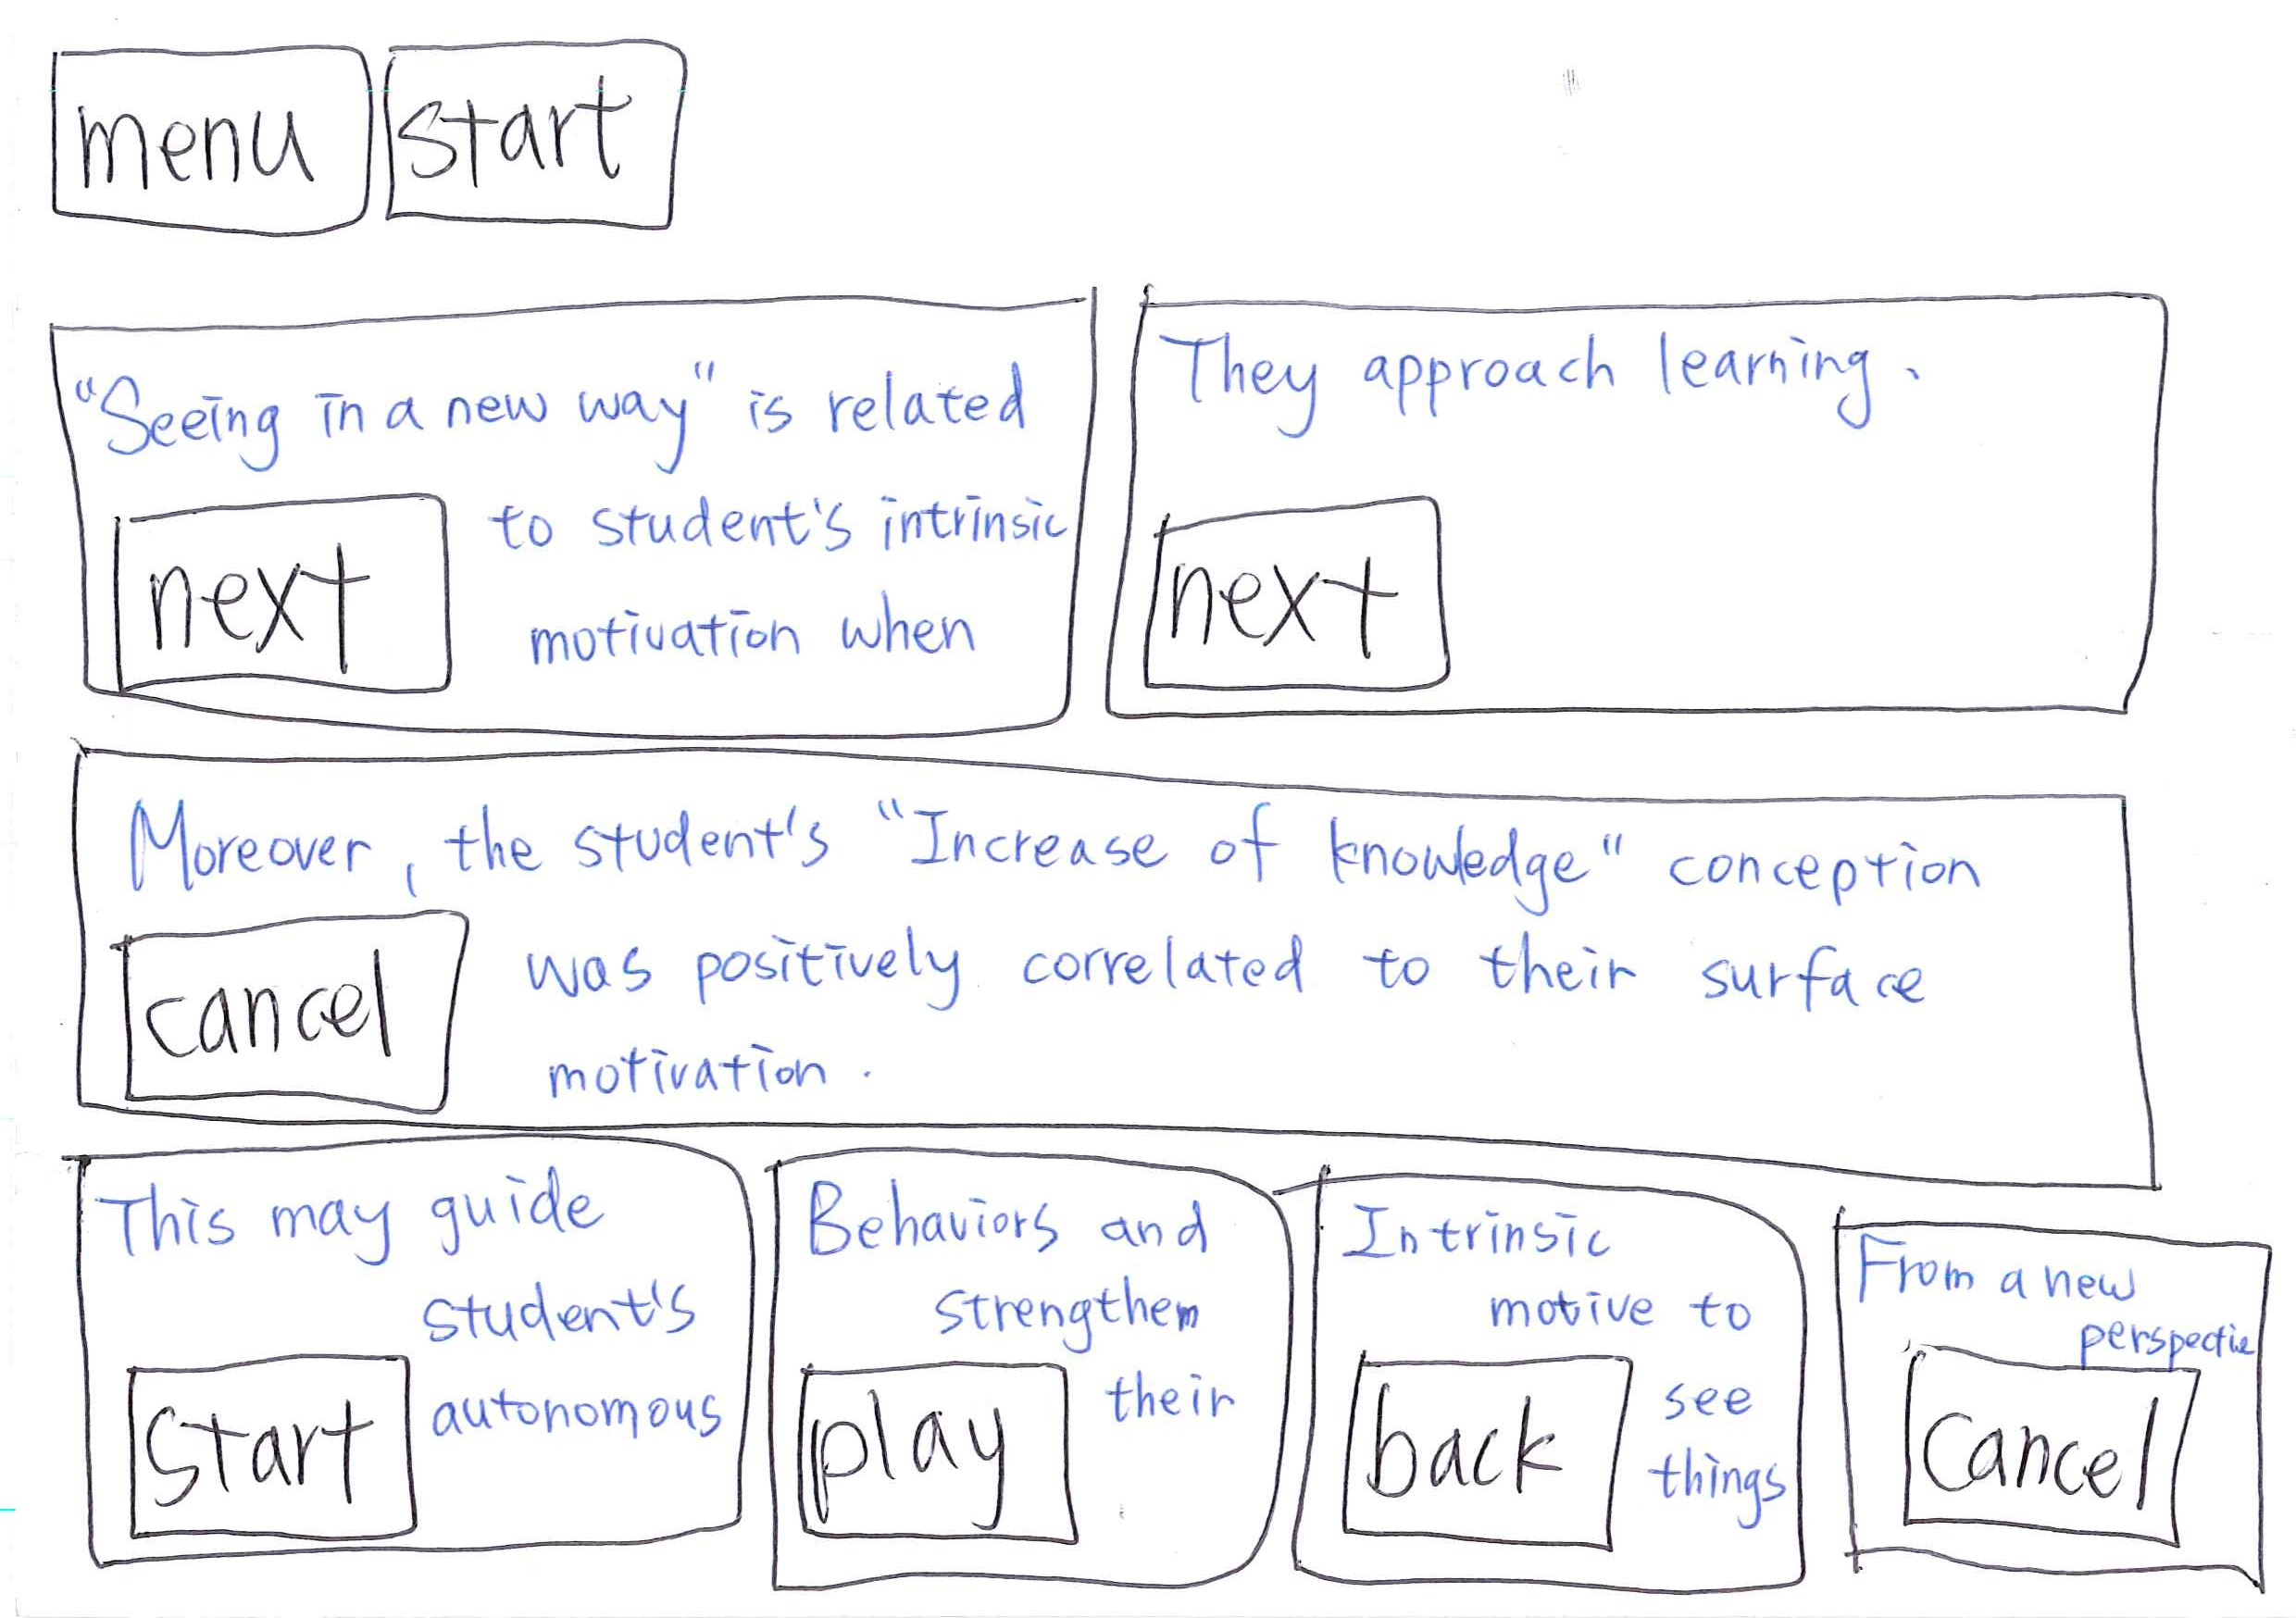back: (1314, 1347, 1641, 1557)
cancel: (98, 902, 492, 1128), (1884, 1324, 2210, 1550)
double: (1086, 256, 2208, 742), (21, 285, 1126, 741)
menu: (23, 28, 382, 266)
next: (102, 473, 476, 725), (1126, 483, 1471, 699)
play: (779, 1348, 1095, 1562)
quadruple: (35, 1124, 755, 1604), (751, 1117, 1305, 1609), (1299, 1136, 1821, 1618), (1818, 1170, 2296, 1616)
row: (12, 271, 2296, 739), (12, 723, 2296, 1191), (12, 1138, 2296, 1606), (11, 4, 2296, 271)
single: (19, 723, 2247, 1213)
small-title: (128, 784, 1991, 909), (1170, 312, 1904, 436), (81, 362, 1047, 445), (105, 1171, 634, 1273), (814, 1163, 1233, 1256), (1851, 1236, 2152, 1317), (1347, 1199, 1652, 1250)
start: (373, 21, 713, 243), (103, 1329, 431, 1546)
text: (511, 886, 1974, 1082), (494, 478, 1033, 648), (426, 1277, 716, 1443), (1620, 1291, 1786, 1536), (1468, 1268, 1781, 1338), (946, 1282, 1172, 1368), (1119, 1345, 1242, 1441), (2088, 1319, 2249, 1357)
